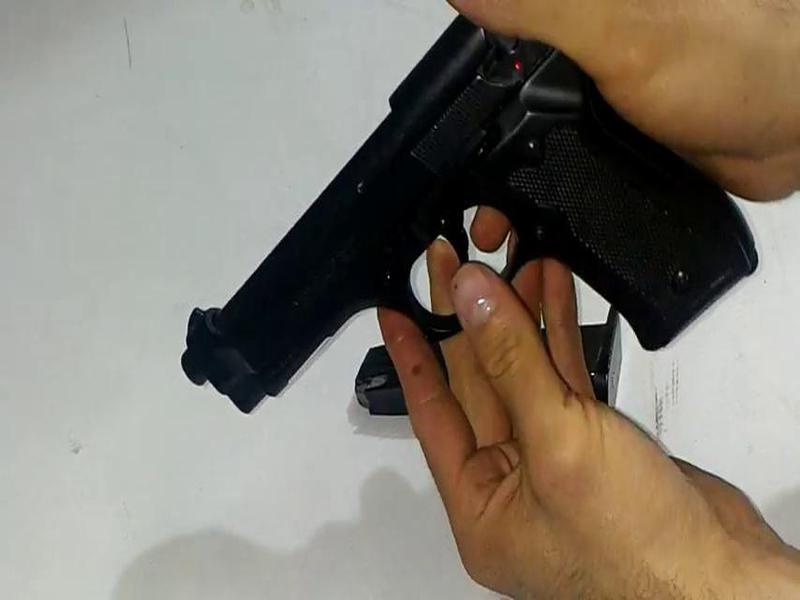Pistola: (158, 20, 766, 431)
